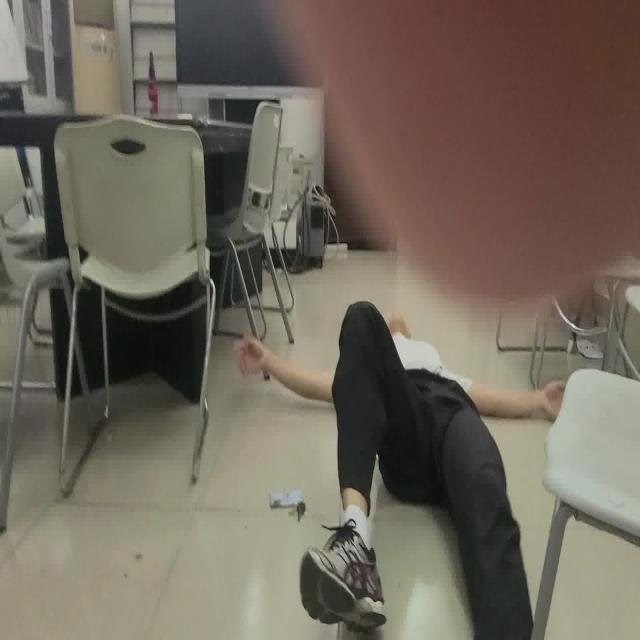Fall-Detected: (233, 296, 573, 640)
